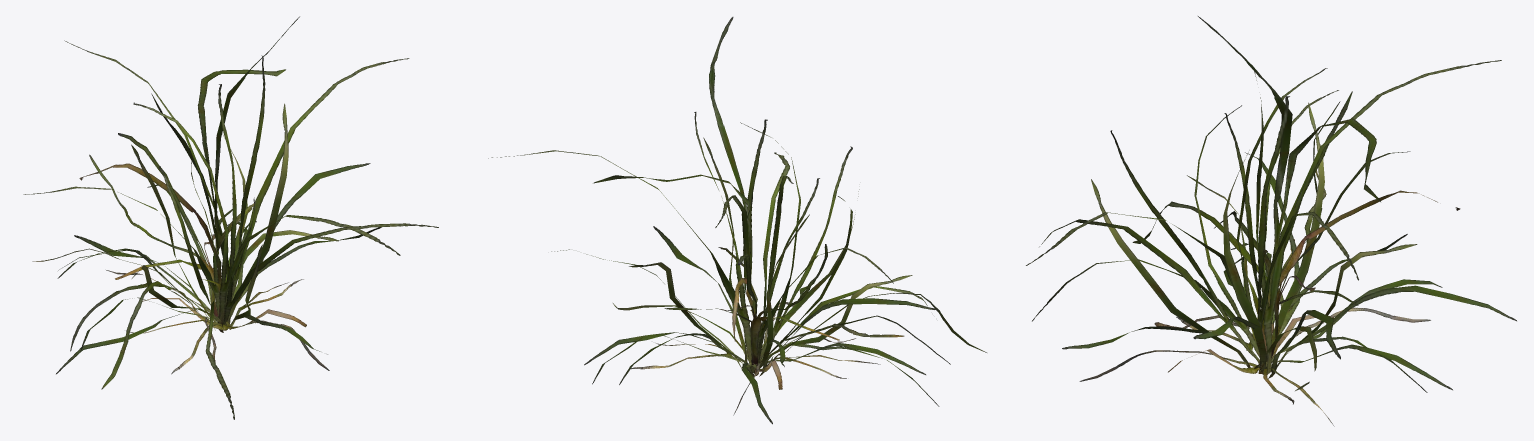
The model's file is grass-0-near.glb.
3 renders of one model, left to right at view 1: azimuth 30°, elevation 25°; view 2: azimuth 150°, elevation 25°; view 3: azimuth 270°, elevation 25°, orthographic. The views are drawn at different scales.
Visible parts, largest first — view 1: grass_medium_01_small_a_LOD0; view 2: grass_medium_01_small_a_LOD0; view 3: grass_medium_01_small_a_LOD0.
Boxes of the visible parts, x1=… form: grass_medium_01_small_a_LOD0: x1=23, y1=16, x2=438, y2=419; grass_medium_01_small_a_LOD0: x1=488, y1=17, x2=986, y2=424; grass_medium_01_small_a_LOD0: x1=1026, y1=16, x2=1516, y2=426.
Size of the model in its own units: 0.1848 by 0.1404 by 0.1623.
Materials: 1 (1 with a texture image).
